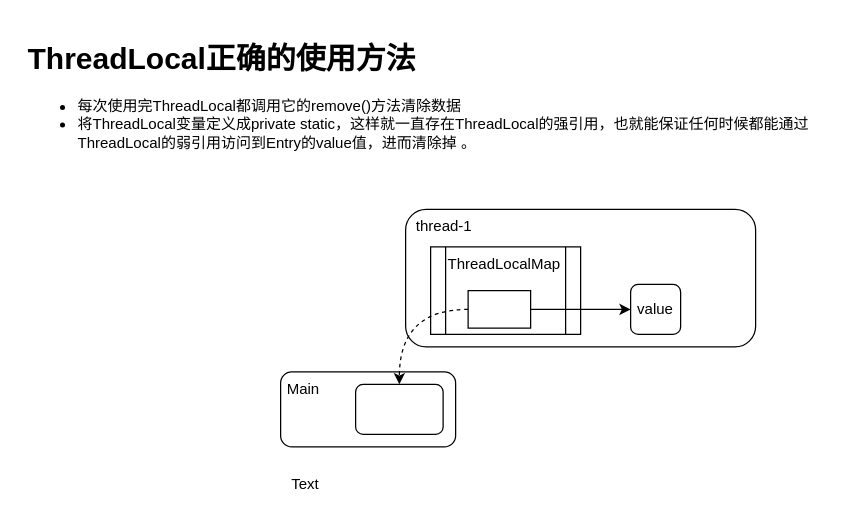
Image size: 861x518. Some labels were removed from this diagram. Each missing label, with the centre of its shape:
Entry[]: the point at 499,308
ThreadLocal: the point at 398,408
